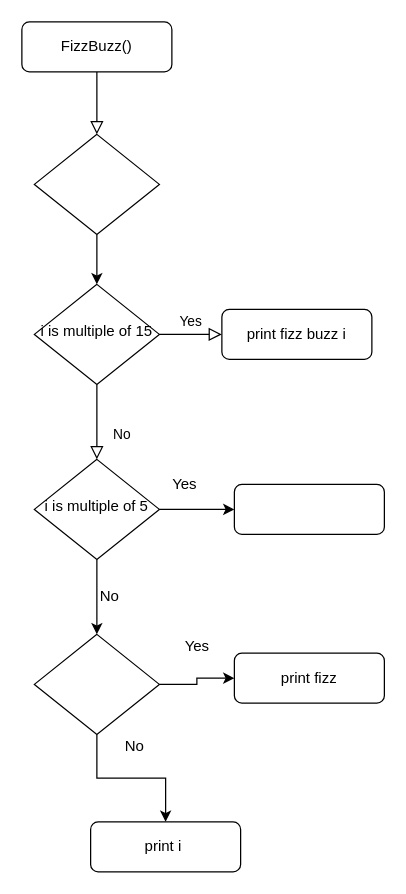
Some shapes in this 406 by 894 pixel diagram are drawn without their labels. Here are the shapes that lost their labels. From the top down, the box of each, then its label:
(33, 133, 159, 234): for i = 1 to 100
(233, 483, 384, 534): print buzz
(33, 633, 159, 734): i is multiple of 3
